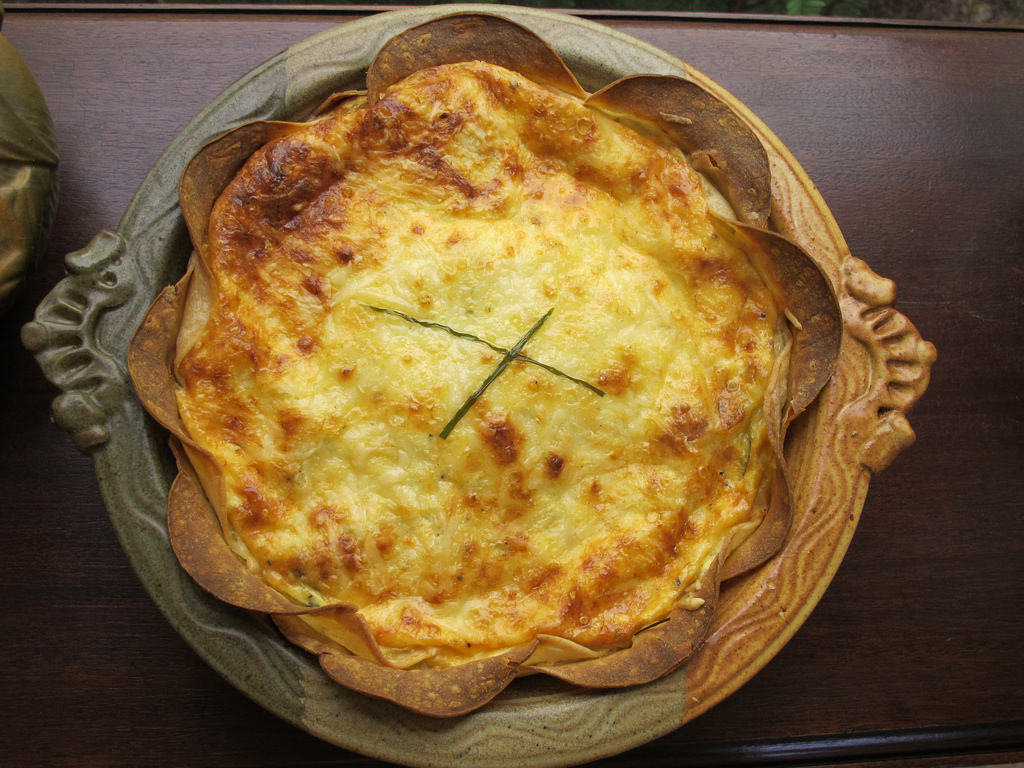slice of bread: (245, 153, 722, 589)
